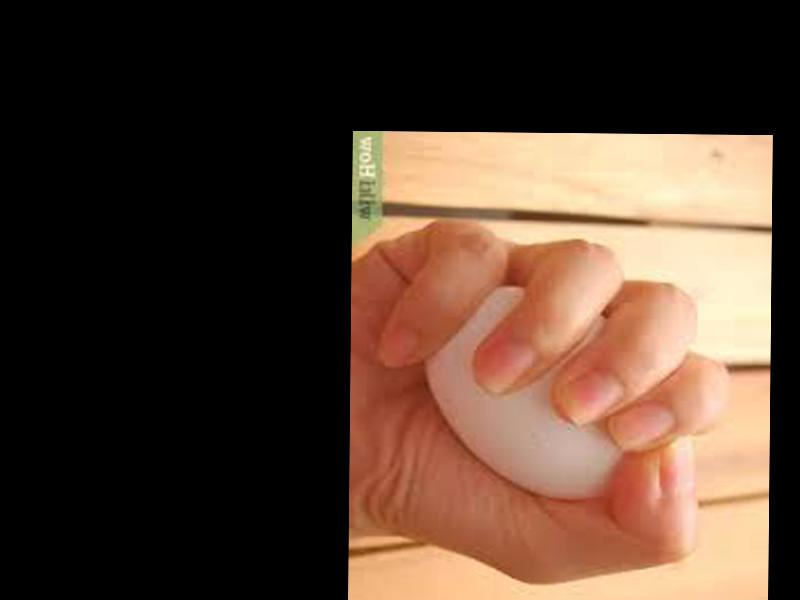Eggs: (424, 284, 624, 501)
